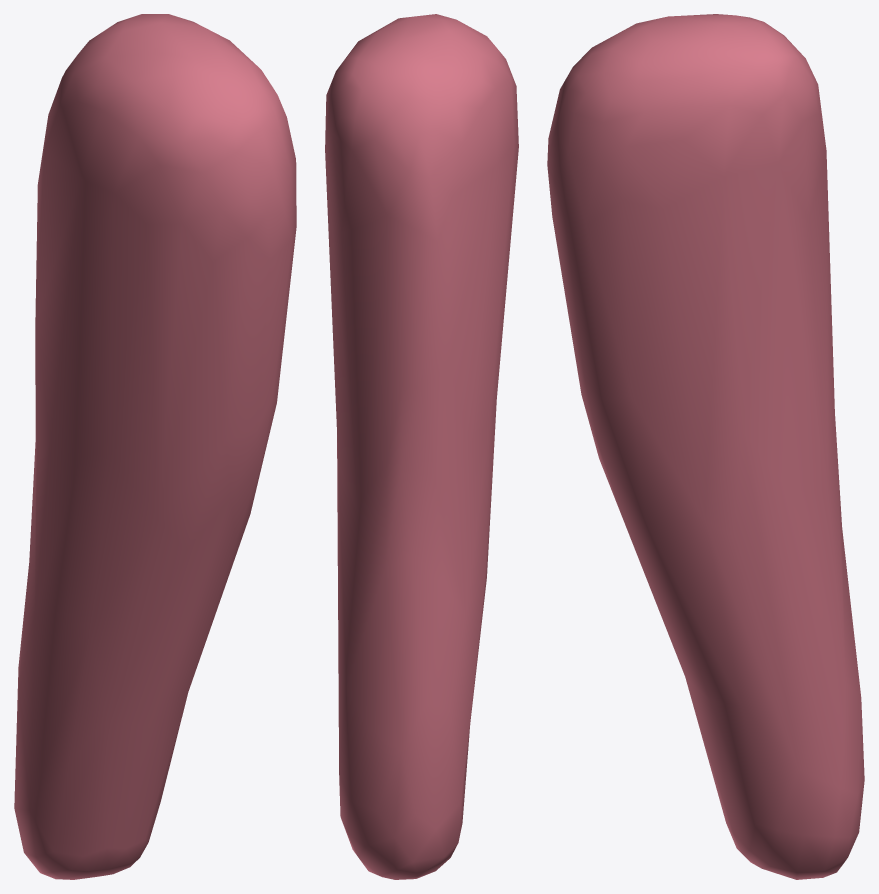
Rendered from Lacrimal_sac_right.glb.
The picture shows the model from 3 angles, left to right: view 1: azimuth 30°, elevation 25°; view 2: azimuth 150°, elevation 25°; view 3: azimuth 270°, elevation 25°; orthographic projection. The views are drawn at different scales.
Parts seen in each view (by area): view 1: Lacrimal_sac.r_grp1.074; view 2: Lacrimal_sac.r_grp1.074; view 3: Lacrimal_sac.r_grp1.074.
Boxes of the visible parts, <box> form: Lacrimal_sac.r_grp1.074: <box>14,14,296,879</box>; Lacrimal_sac.r_grp1.074: <box>325,14,518,879</box>; Lacrimal_sac.r_grp1.074: <box>547,14,864,879</box>.
Size of the model in its own units: 0.004 by 0.0184 by 0.0061.
